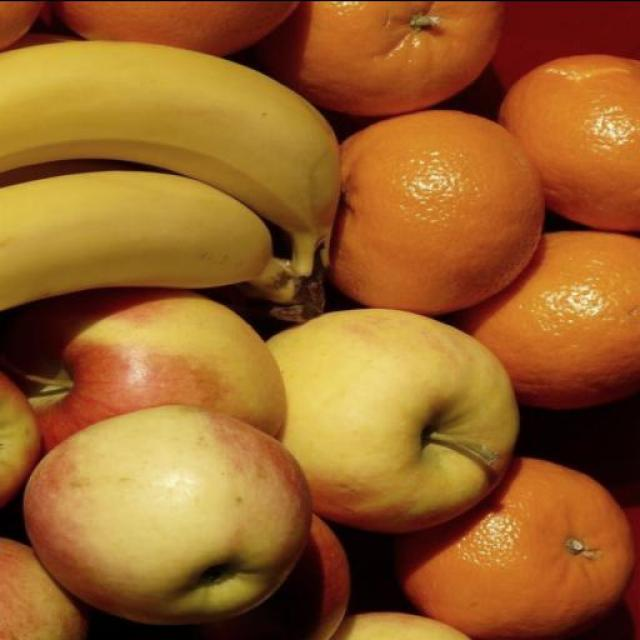0: (24, 402, 311, 623), (260, 309, 516, 532), (1, 285, 290, 455)
1: (1, 37, 343, 315), (1, 168, 307, 320)
2: (397, 456, 634, 640), (333, 108, 543, 314), (460, 231, 640, 408), (253, 1, 503, 117), (500, 52, 640, 231)
Orange: (490, 1, 639, 93), (62, 1, 302, 55)
